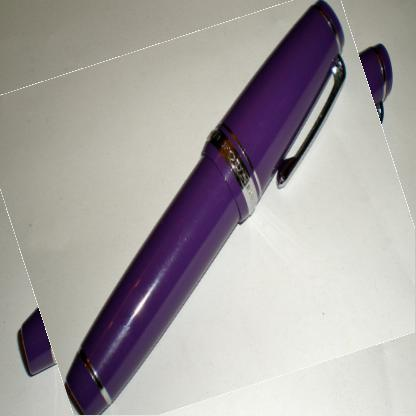Pen: (0, 11, 415, 414)
